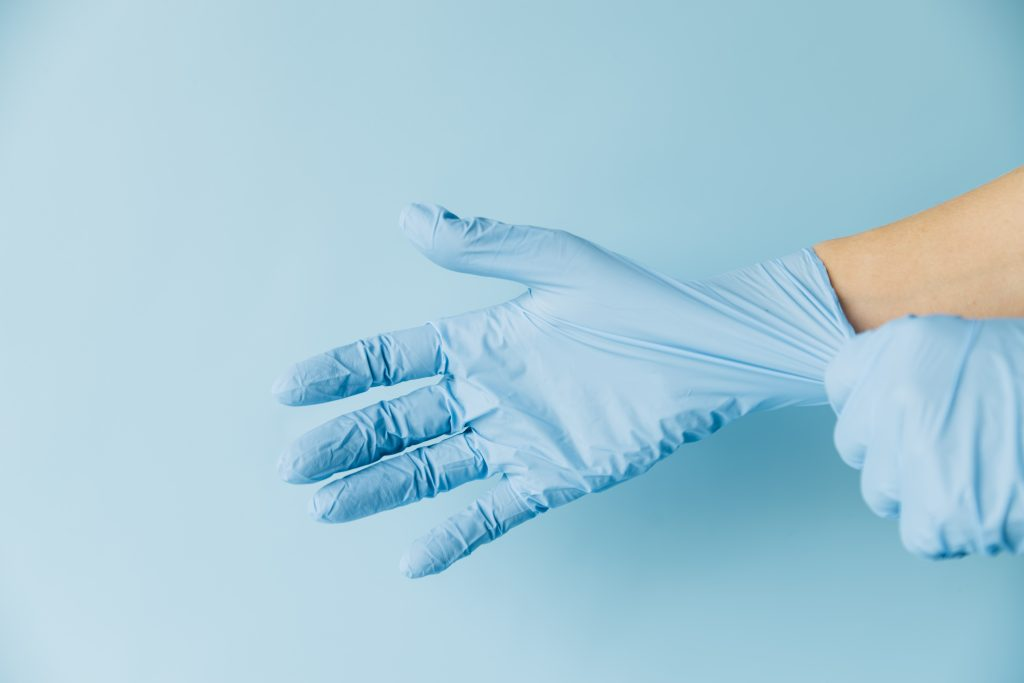gloves: (276, 183, 879, 585)
